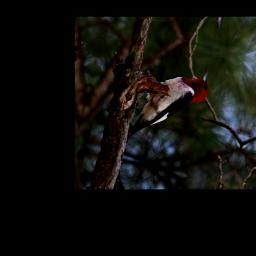Woodpecker: (125, 49, 215, 164)
